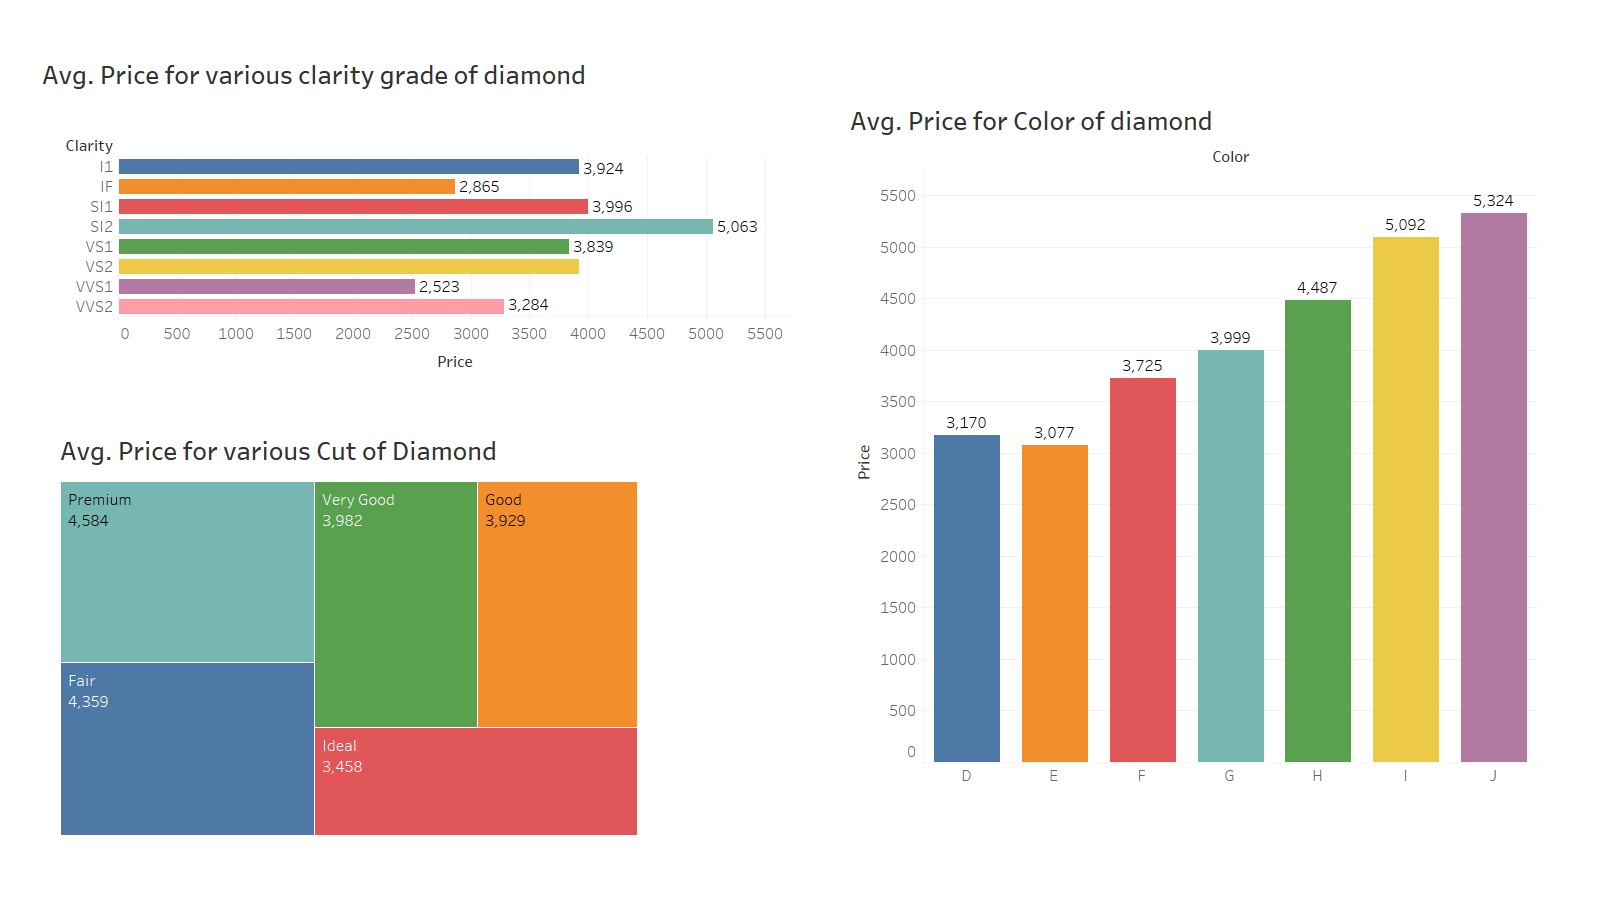

The dashboard page shown, as its layout file describes it:
{"tool":"tableau","page":{"name":"Dashboard 3","canvas":[1600,900],"ordinal":1},"visuals":[{"type":"worksheet","title":"Sheet 8","mark":"Automatic","rows":["clarity"],"cols":["price"],"box":[38,51,754,362]},{"type":"worksheet","title":"Sheet 10","mark":"Automatic","rows":["price"],"cols":["color"],"box":[846,97,692,690]},{"type":"worksheet","title":"Sheet 9","mark":"Automatic","box":[56,427,691,413]}]}

Visuals, with their boxes in screenshot pixels (x1, y1, x2, y2), scaled from the page's 1600x900 canvas onto the 1600x900 screenshot:
"Sheet 8" worksheet: [38,51,792,413]
"Sheet 10" worksheet: [846,97,1538,787]
"Sheet 9" worksheet: [56,427,747,840]
